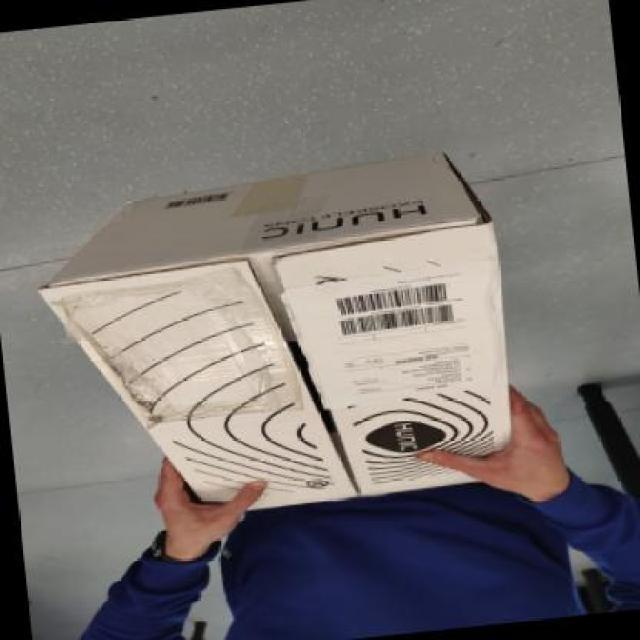box: (19, 137, 568, 565)
